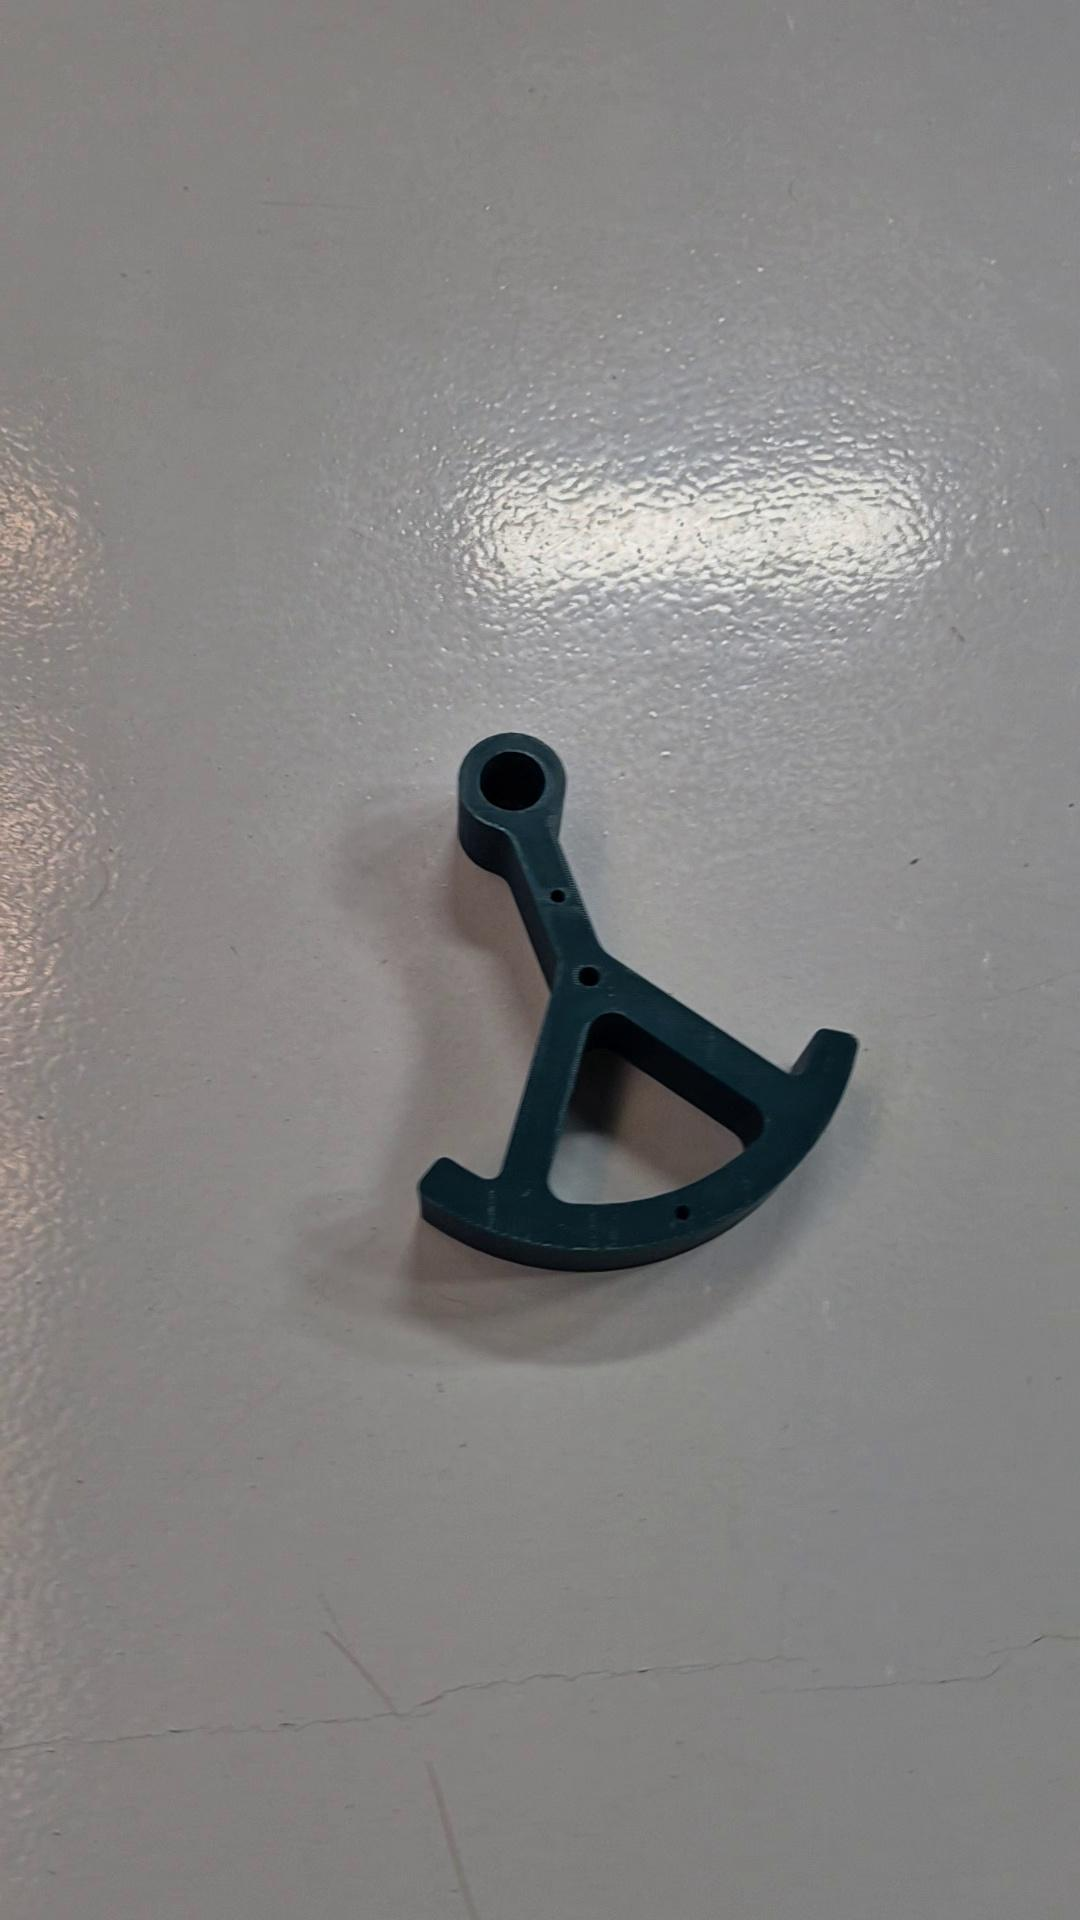Paddles: (413, 729, 862, 1276)
